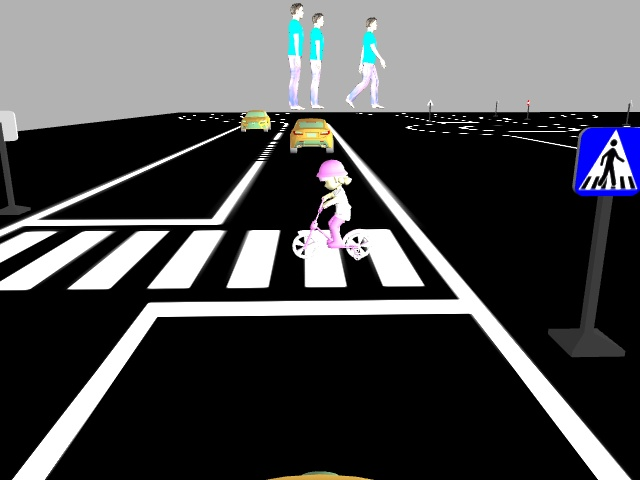Crosswalk: (570, 125, 639, 198)
Pedestrian: (290, 159, 378, 260)
